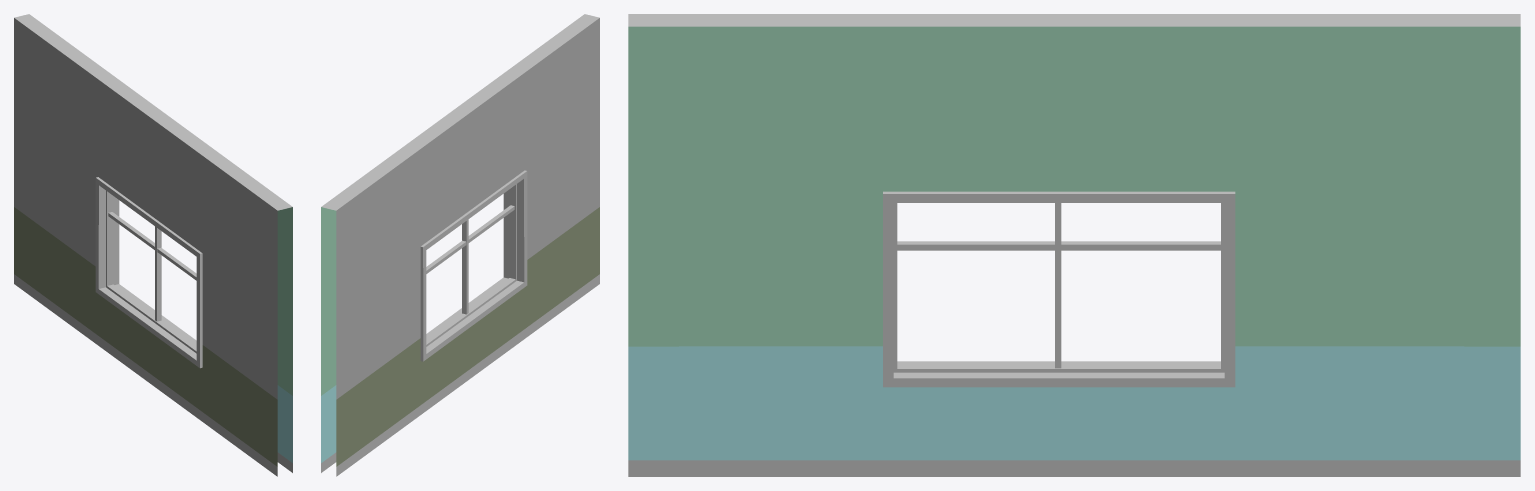
Rendered from SM_Wall_Window_B_601.fbx.
The picture shows the model from 3 angles, left to right: view 1: azimuth 30°, elevation 25°; view 2: azimuth 150°, elevation 25°; view 3: azimuth 270°, elevation 25°; orthographic projection. The views are drawn at different scales.
Visible parts, largest first — view 1: SM_Wall_Window_B_601; view 2: SM_Wall_Window_B_601; view 3: SM_Wall_Window_B_601.
Boxes of the visible parts, x1,y1,x2,y2 form: SM_Wall_Window_B_601: [14, 14, 292, 476]; SM_Wall_Window_B_601: [321, 14, 599, 476]; SM_Wall_Window_B_601: [628, 14, 1520, 476].
Size of the model in its own units: 27.27 by 334 by 600.
